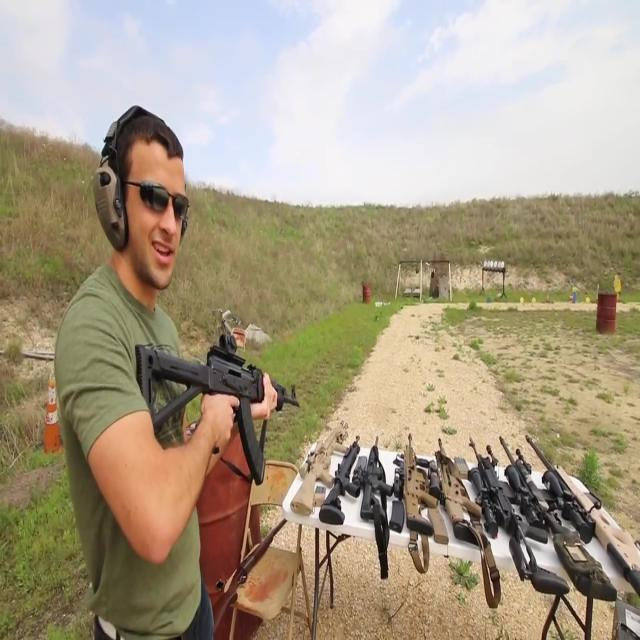Weapon: (295, 398, 640, 626), (101, 310, 308, 489), (187, 516, 297, 640)
